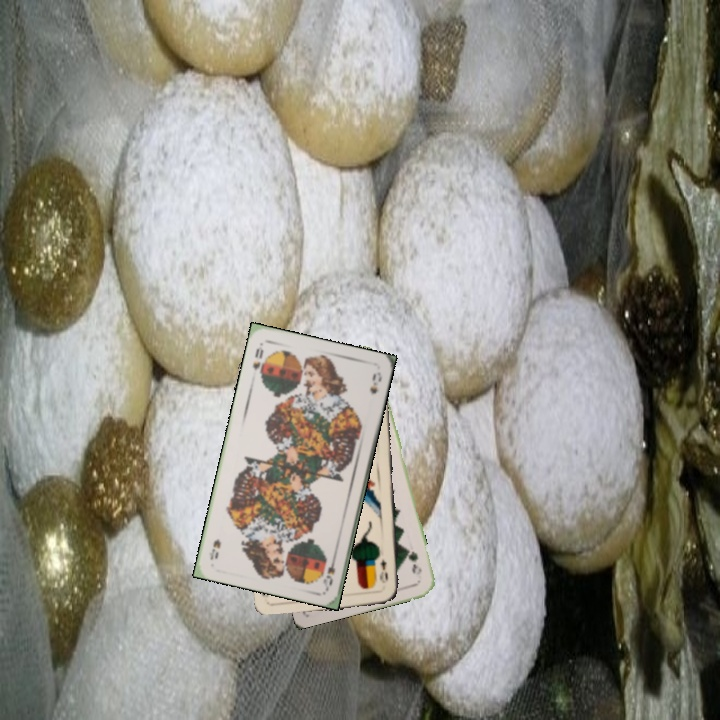EO: (376, 556, 390, 586)
G9: (404, 545, 424, 577)
SO: (319, 550, 339, 591), (249, 340, 266, 376)
